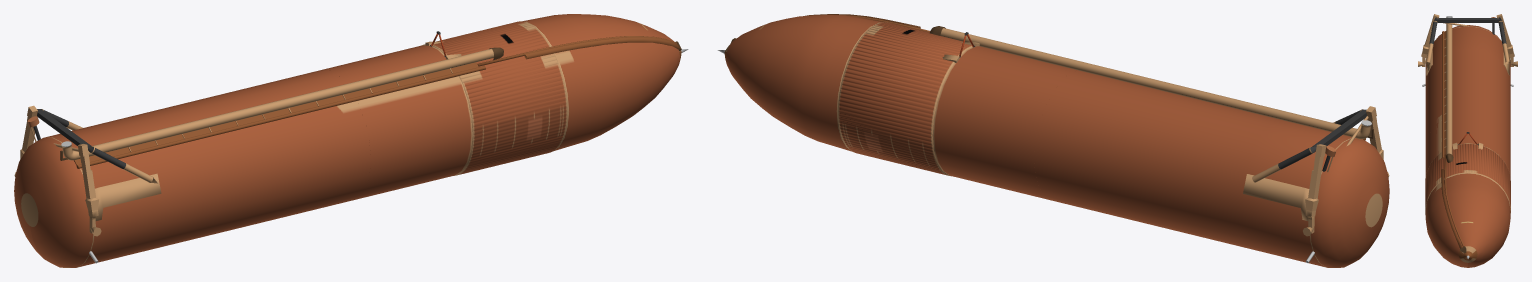
The model's file is et_all.FBX.
The picture shows the model from 3 angles, left to right: view 1: azimuth 30°, elevation 25°; view 2: azimuth 150°, elevation 25°; view 3: azimuth 270°, elevation 25°; orthographic projection. The views are drawn at different scales.
Parts seen in each view (by area): view 1: et_all.lay; view 2: et_all.lay; view 3: et_all.lay.
Boxes of the visible parts, x1,y1,x2,y2 form: et_all.lay: (14,14,688,267); et_all.lay: (717,14,1389,267); et_all.lay: (1418,14,1517,267).
Bounding box in the file's own units: 1880 × 388 × 380.
24 materials, 1 textured.
